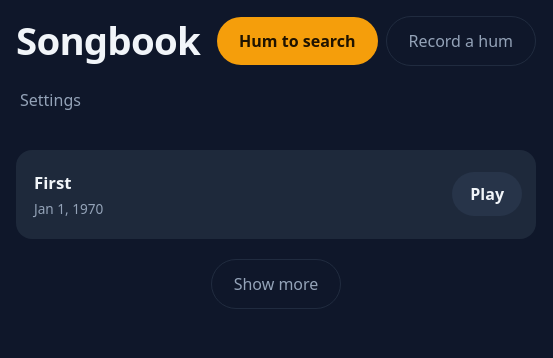
SongbookScreen › appends the next page when Show more is tapped and the query stays bounded
Expected: the text "First" is shown, [34,170,72,195]
Click the button "Show more" at {"x": 276, "y": 284}, box [211,259,341,309]
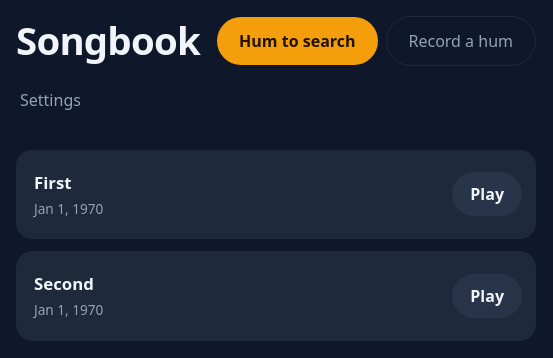
Expected: the text "Second" is shown, [34,271,94,296]
Expected: the button "Show more" is gone
